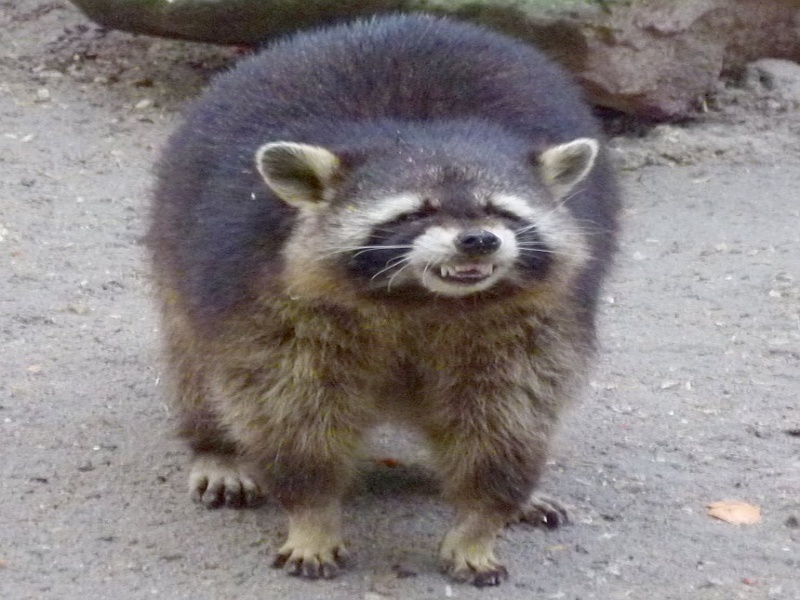raccoon: (146, 16, 621, 585)
